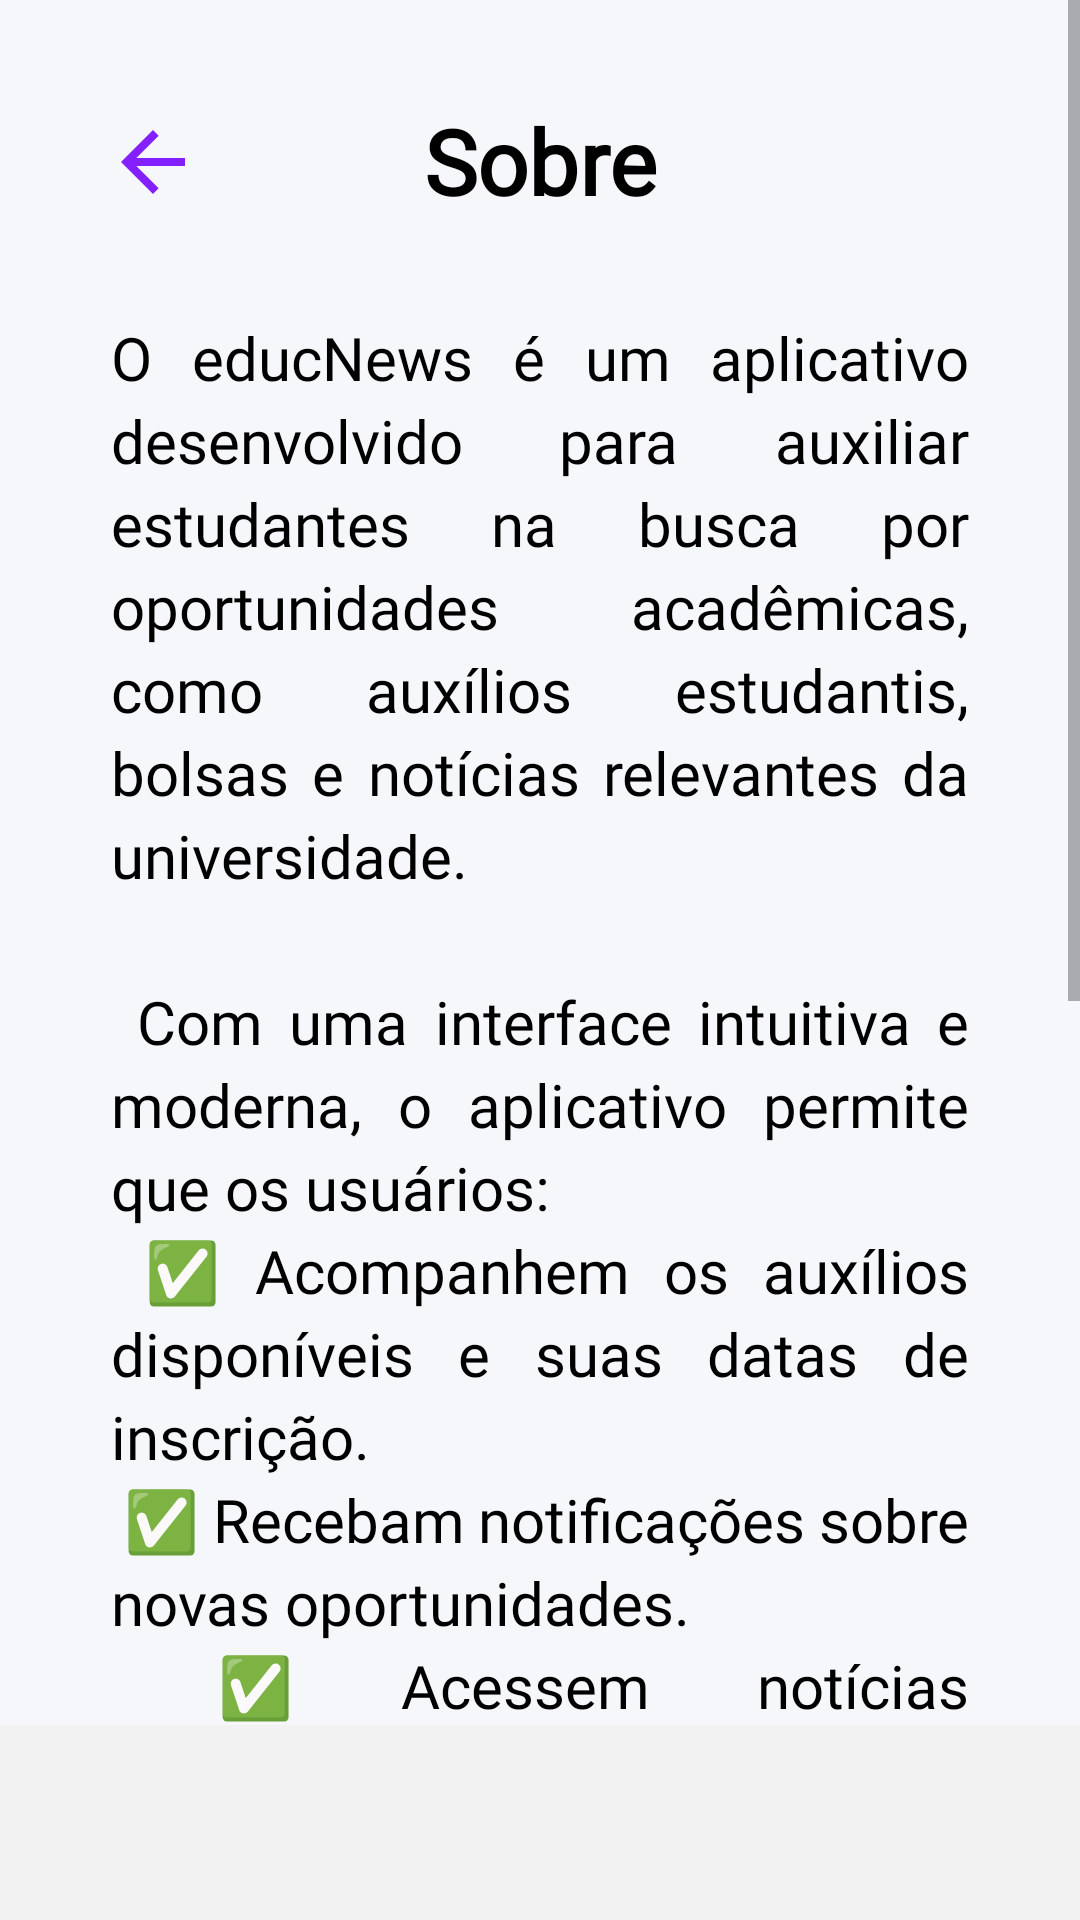

Icons on this 1080*1920 Android screen, each with the point to tap as (x=x, y=y):
voltar: (x=153, y=162)
